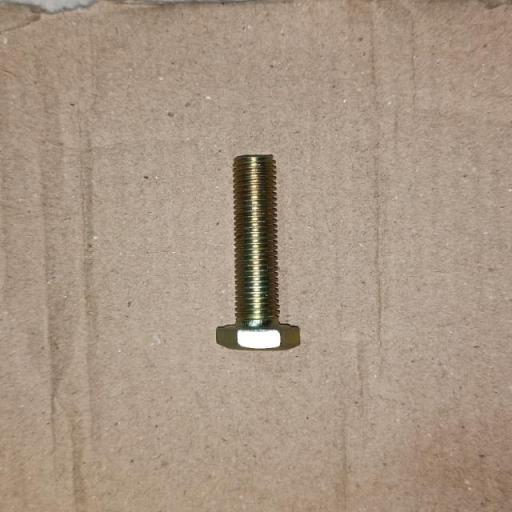Bolt: (216, 154, 301, 352)
